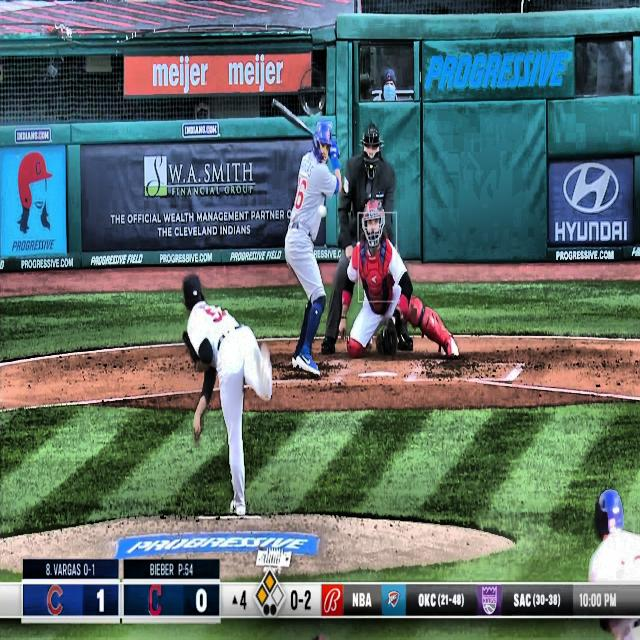baseball: (318, 204, 328, 219)
